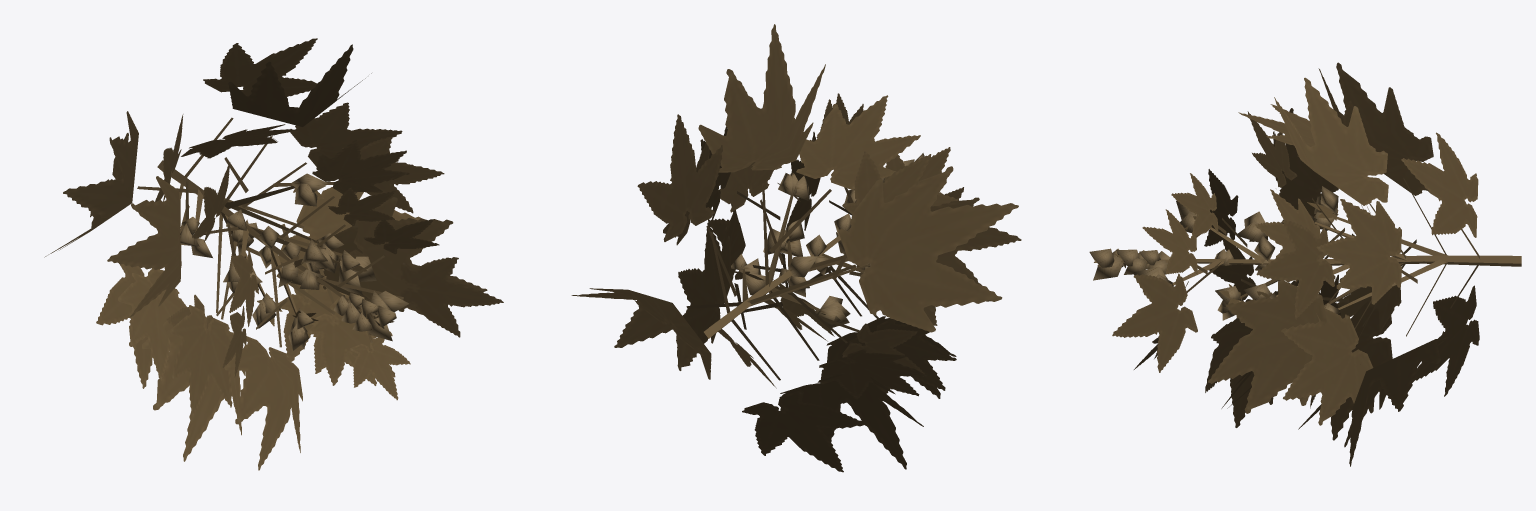
File: p_male_kush_flowering_c3_cards.obj
3 views of the same model, side by side, from view 1: azimuth 30°, elevation 25°; view 2: azimuth 150°, elevation 25°; view 3: azimuth 270°, elevation 25° (orthographic). The views are drawn at different scales.
Bounding box in the file's own units: 1.77 × 1.59 × 1.39.
1 material, 1 textured.
